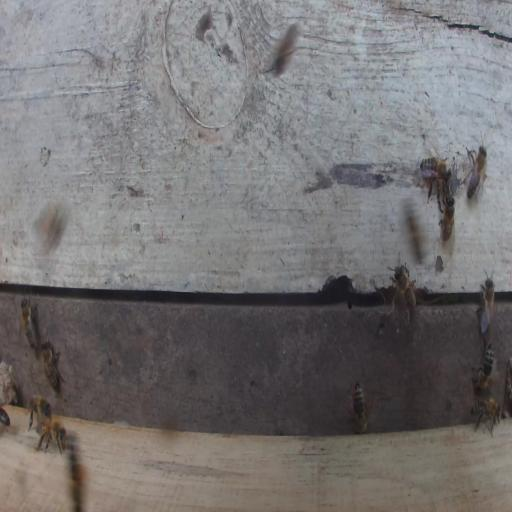nonpollenbee: (418, 146, 451, 203), (391, 262, 417, 329), (461, 143, 487, 201), (40, 339, 65, 393), (475, 269, 495, 335), (471, 396, 502, 437), (35, 417, 68, 455), (271, 27, 298, 73), (471, 338, 494, 391), (20, 294, 39, 352), (438, 190, 455, 254), (26, 395, 52, 431), (351, 379, 368, 434), (0, 407, 10, 426)
pollenbee: (66, 428, 92, 511)
